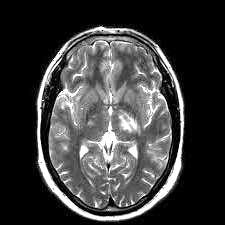Normal_Brain: (18, 1, 208, 225)
